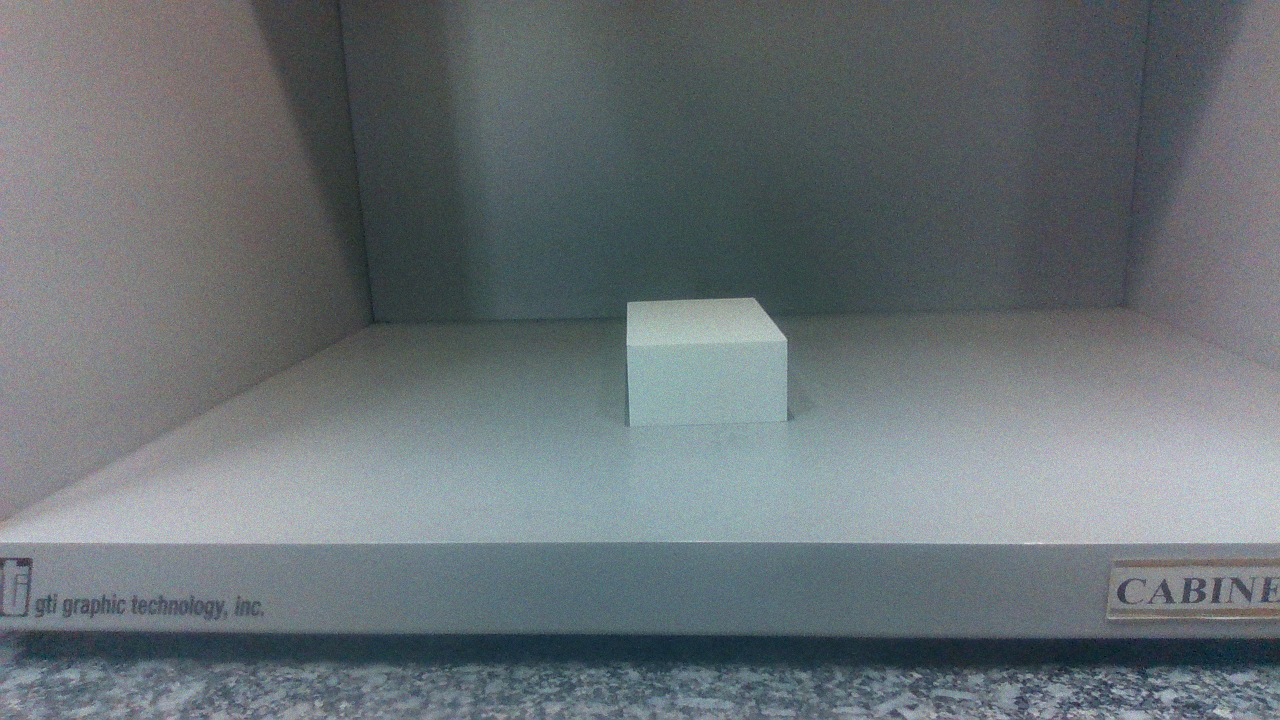Retangulo: (625, 297, 790, 426)
